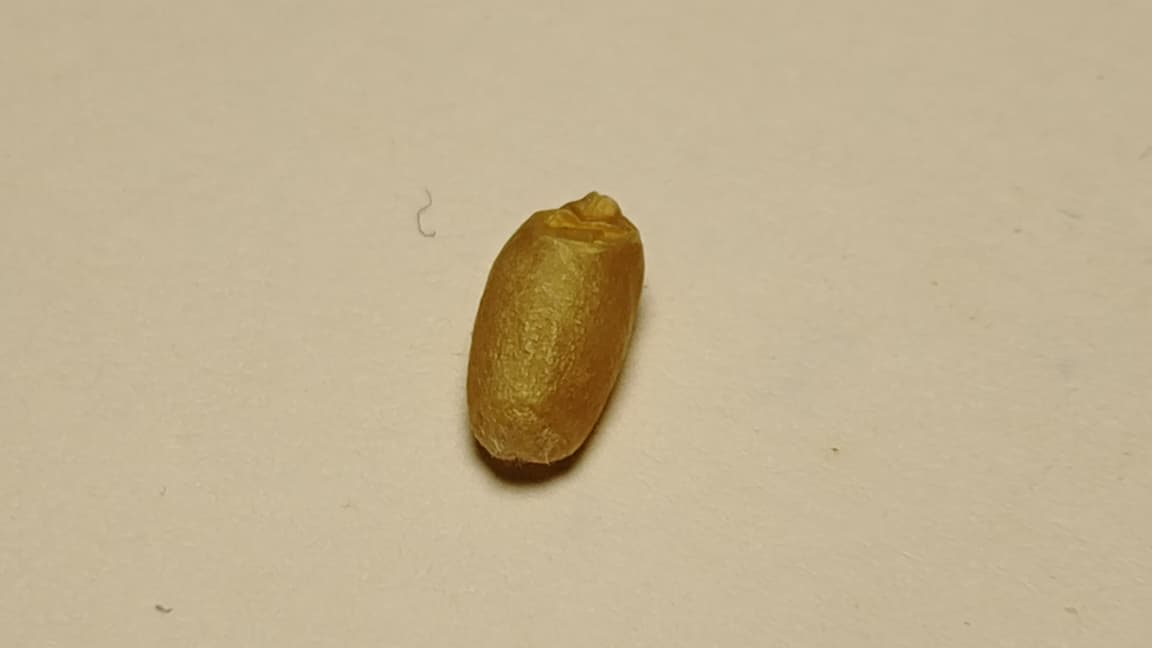healthy: (467, 191, 644, 470)
